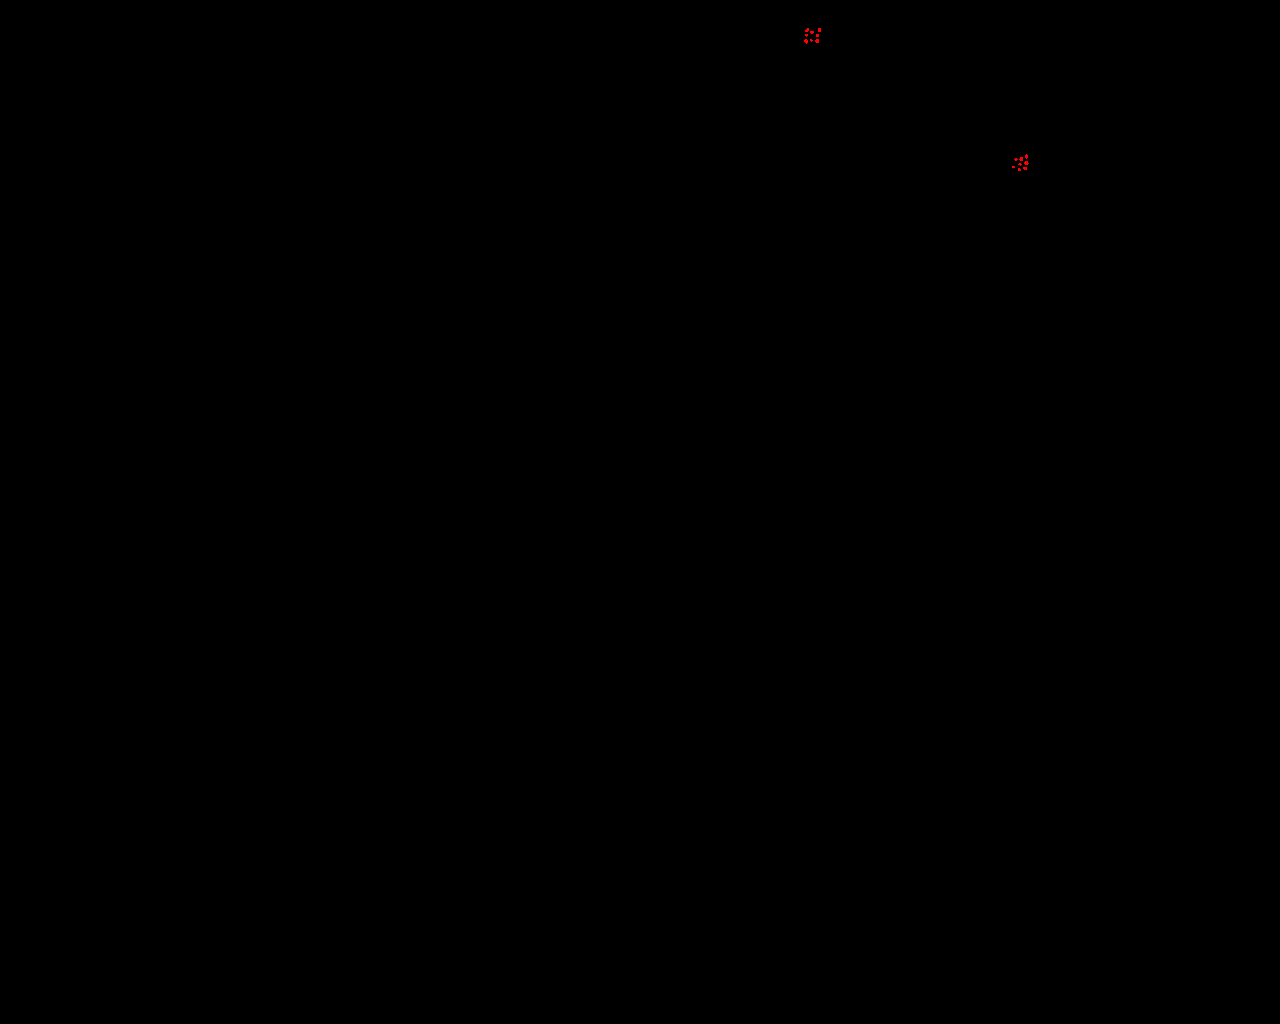Target: (804, 39, 808, 44), (1024, 161, 1029, 165), (805, 28, 809, 32), (815, 39, 819, 43), (1019, 157, 1023, 161), (1025, 154, 1028, 159), (818, 28, 821, 32), (810, 31, 814, 34), (1014, 158, 1018, 161), (1018, 163, 1022, 166), (1023, 167, 1027, 170), (810, 39, 813, 42), (1018, 168, 1021, 171), (805, 34, 808, 37), (816, 34, 819, 37), (1013, 166, 1015, 168)
